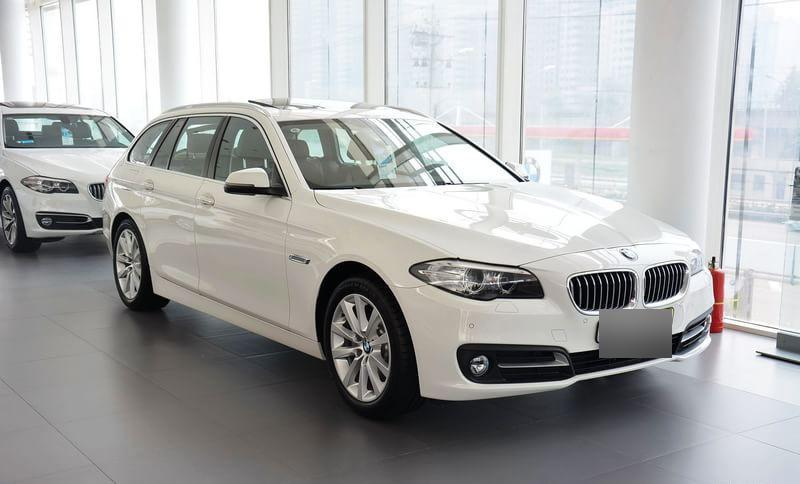Wagon: (101, 97, 716, 420)
